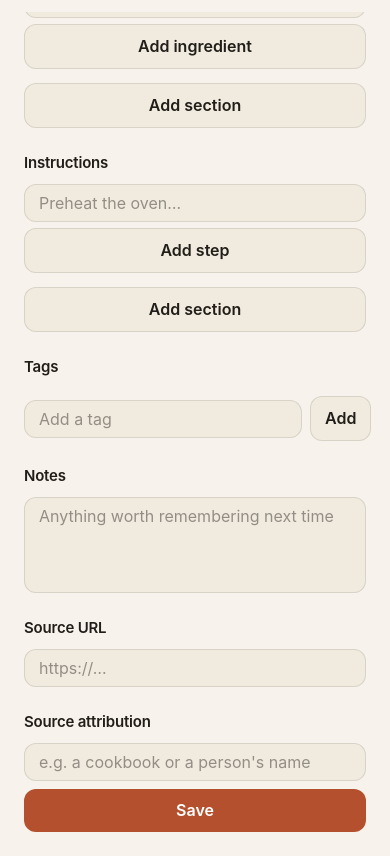
Test: RecipeEditorScreen — create mode › requires a title before saving
(page scrolled)
Step 1. Click the button with test id "recipe-save-button" → (195, 810), box [24,789,366,832]
(page scrolled)
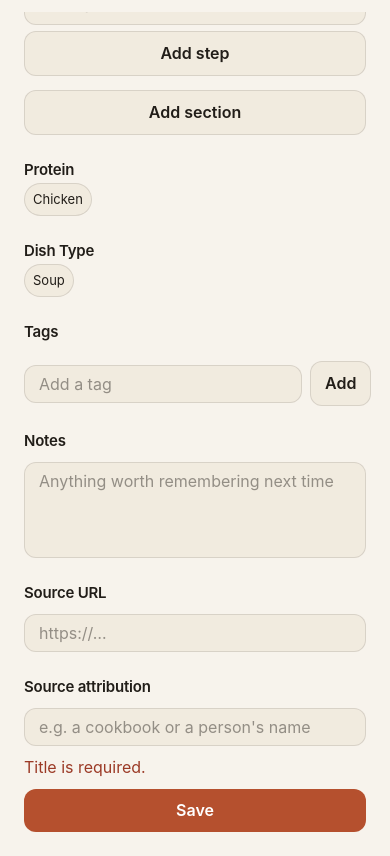
Result: the message with test id "recipe-editor-error" reads "Title is required." at [24,757,146,777]
